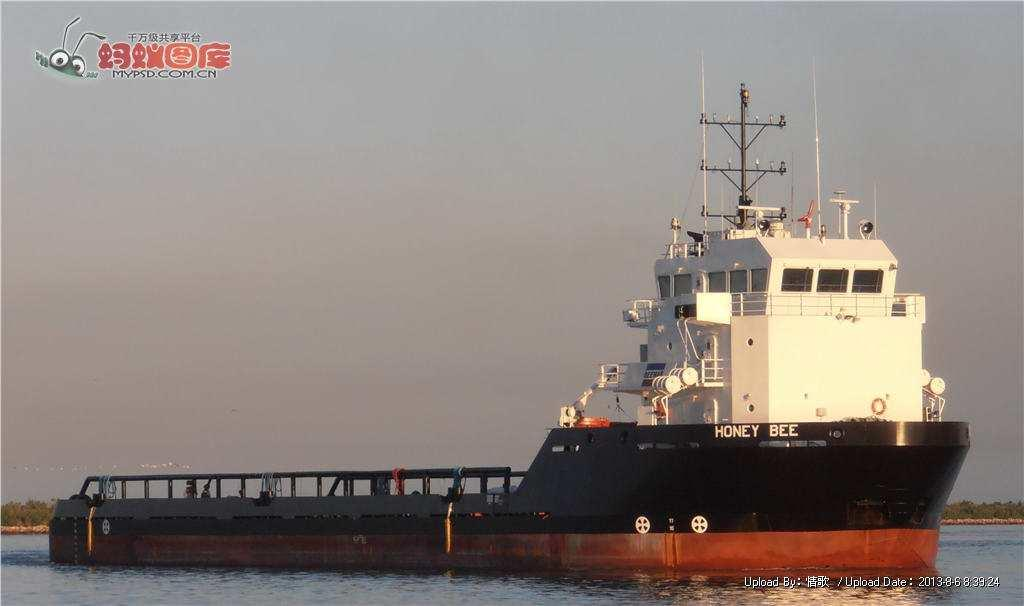Cargoship: (46, 65, 971, 584)
